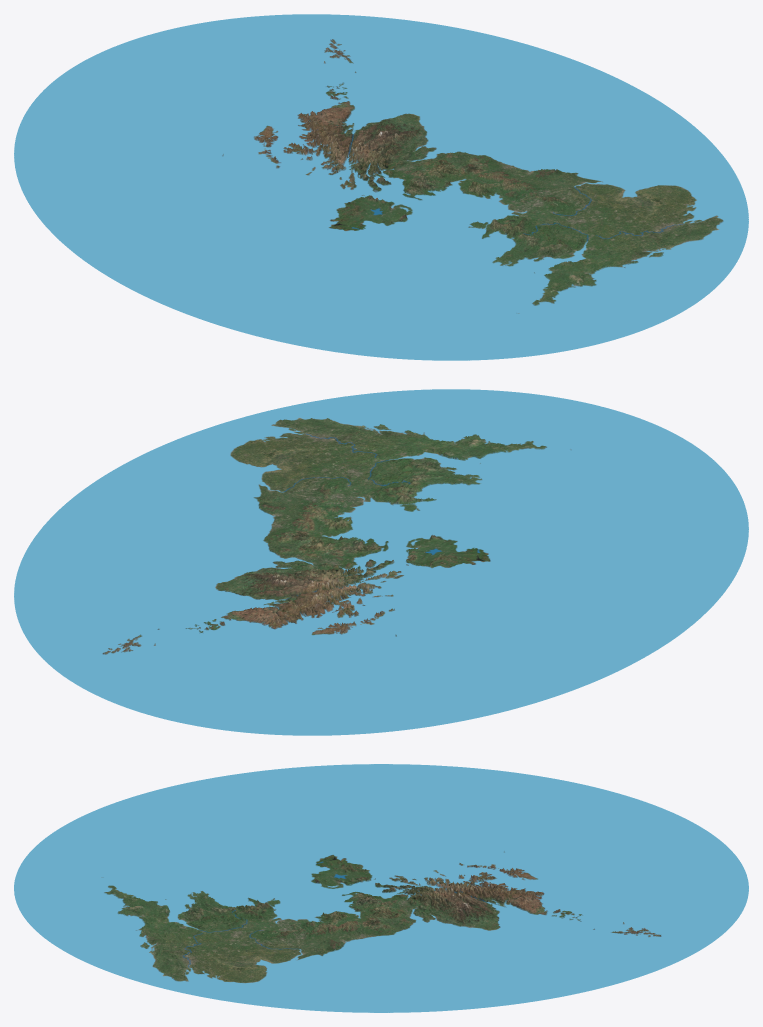
Rendered from GBR-previa-terrain.glb.
3 renders of one model, top to bottom at view 1: azimuth 30°, elevation 25°; view 2: azimuth 150°, elevation 25°; view 3: azimuth 270°, elevation 25°, orthographic. The views are drawn at different scales.
Parts seen in each view (by area): view 1: Reino Unido; view 2: Reino Unido; view 3: Reino Unido.
Part boxes in pixels (bbox=[...]): Reino Unido: bbox=[14, 14, 748, 360]; Reino Unido: bbox=[14, 389, 748, 735]; Reino Unido: bbox=[14, 764, 748, 1012].
Bounding box in the file's own units: 1.86 × 0.0228 × 2.32.
Materials: 1 (1 with a texture image).
